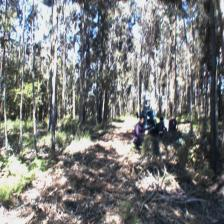trunktrack_idkeyframe: (210, 62, 217, 166), (50, 78, 56, 148)
